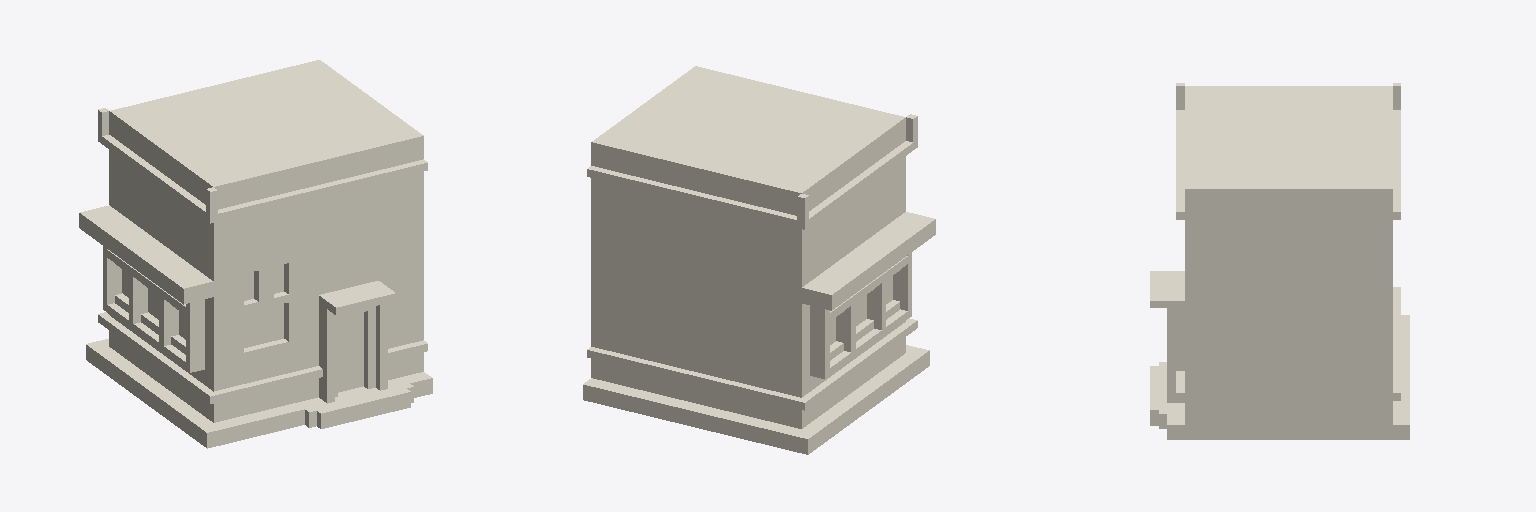
3 views of the same model, side by side, from view 1: azimuth 30°, elevation 25°; view 2: azimuth 150°, elevation 25°; view 3: azimuth 270°, elevation 25° (orthographic).
Visible parts, largest first — view 1: object 1; view 2: object 1; view 3: object 1.
Boxes of the visible parts, x1,y1,x2,y2 form: object 1: [79, 60, 432, 448]; object 1: [583, 66, 935, 454]; object 1: [1150, 83, 1409, 439].
Size of the model in its own units: 3.2 by 3.2 by 3.
Materials: 1 (1 with a texture image).